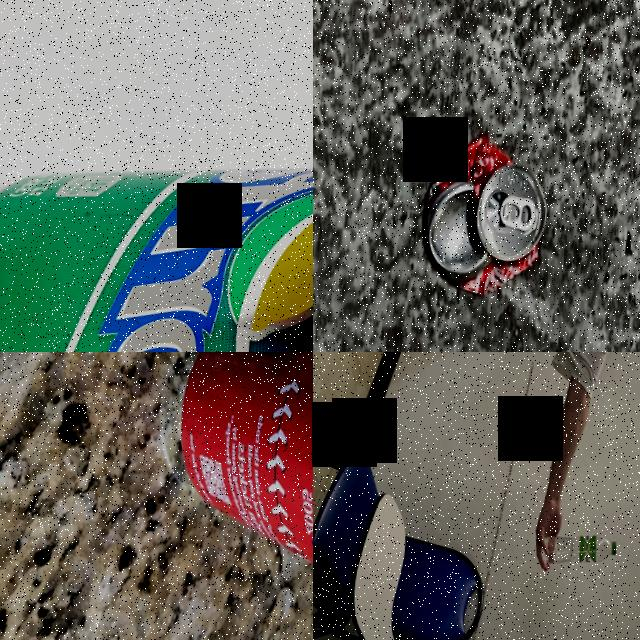bottle: (534, 528, 618, 570)
can: (0, 122, 313, 352), (158, 352, 313, 630)
